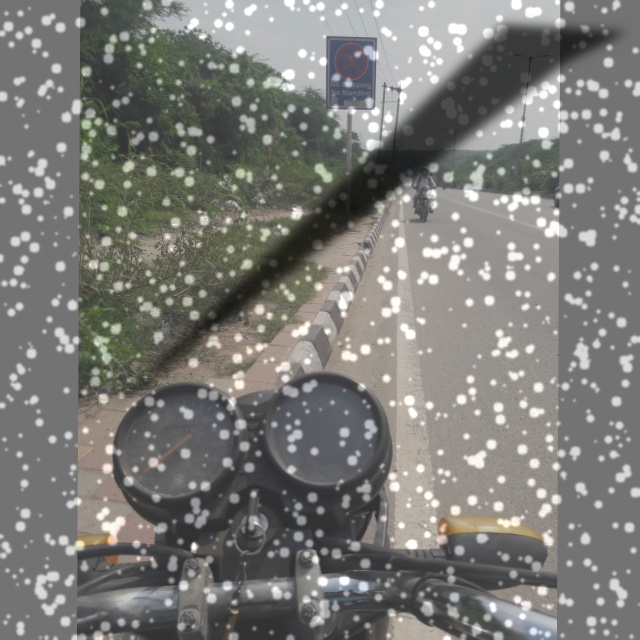No_Stopping_or_Standing: (327, 36, 379, 86)
